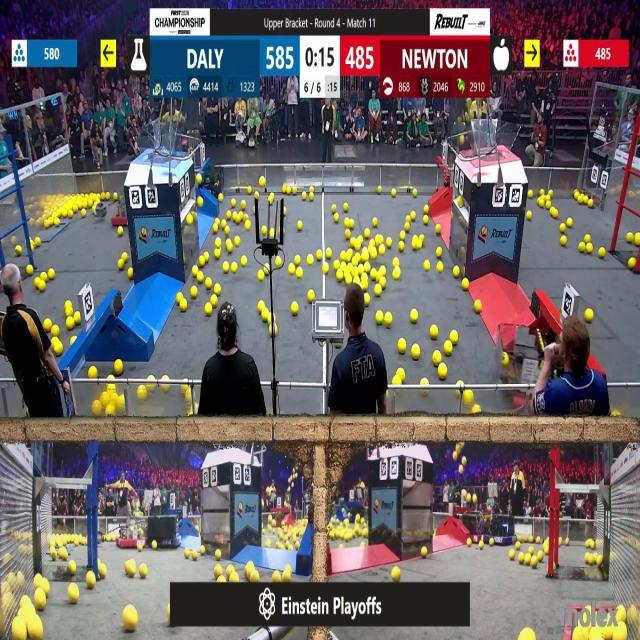ball_airborne: (459, 135, 465, 145), (458, 465, 464, 474), (466, 494, 472, 502), (462, 457, 468, 465), (471, 494, 476, 503), (462, 490, 468, 497), (451, 450, 455, 460)
ball_ground: (125, 608, 138, 633), (29, 621, 40, 640), (35, 592, 46, 610), (69, 586, 79, 604), (87, 572, 97, 588), (128, 562, 138, 577), (54, 342, 64, 356), (249, 568, 259, 582), (114, 359, 123, 374), (439, 363, 448, 378), (93, 403, 102, 418), (521, 630, 534, 640), (391, 567, 400, 581), (412, 345, 420, 360), (463, 391, 472, 404), (140, 564, 148, 578), (397, 340, 405, 354), (66, 302, 74, 316), (90, 365, 99, 377), (429, 325, 437, 338), (376, 312, 384, 325), (100, 565, 108, 578), (445, 343, 453, 356), (106, 406, 115, 417), (451, 329, 458, 343), (433, 352, 441, 364), (263, 310, 271, 322), (60, 548, 68, 560), (274, 570, 282, 582), (412, 310, 419, 323), (385, 313, 392, 326), (69, 561, 76, 574), (392, 270, 400, 281), (283, 570, 291, 581), (50, 324, 58, 335), (474, 302, 481, 314), (587, 310, 594, 322), (291, 304, 298, 316), (67, 318, 74, 330), (205, 305, 212, 317), (225, 240, 232, 252), (198, 272, 205, 284), (421, 548, 428, 560), (501, 354, 508, 366), (231, 573, 240, 582), (213, 284, 221, 294), (627, 234, 635, 244), (376, 236, 384, 246), (309, 289, 315, 302), (630, 259, 636, 272), (74, 313, 80, 326), (180, 301, 187, 312), (47, 270, 54, 281), (214, 565, 221, 576), (578, 242, 585, 253), (375, 285, 382, 296), (369, 270, 376, 281), (205, 278, 212, 289), (369, 248, 376, 259), (397, 367, 404, 378), (524, 555, 531, 566), (392, 376, 400, 385), (471, 406, 479, 415), (44, 319, 50, 331), (531, 556, 537, 568), (572, 631, 580, 640), (211, 295, 218, 305), (308, 254, 315, 264), (587, 244, 594, 254), (435, 264, 442, 274), (361, 280, 368, 290), (363, 264, 370, 274), (379, 278, 386, 288), (235, 213, 242, 223), (347, 249, 354, 259), (462, 279, 468, 290), (190, 286, 196, 297), (222, 263, 228, 274), (39, 281, 45, 292), (454, 268, 460, 279), (191, 267, 197, 278), (360, 274, 368, 282), (435, 248, 442, 257), (379, 268, 386, 277), (507, 551, 514, 560), (276, 256, 282, 266), (28, 266, 34, 276), (424, 262, 430, 272), (599, 248, 605, 258), (325, 249, 331, 259), (258, 272, 264, 282), (215, 551, 221, 561), (561, 237, 567, 247), (296, 269, 302, 279), (232, 264, 238, 274), (296, 220, 302, 230), (338, 272, 344, 282), (380, 246, 386, 256), (15, 246, 21, 256), (552, 208, 558, 218), (257, 302, 263, 312), (316, 250, 322, 260), (413, 240, 419, 250), (186, 214, 192, 224), (120, 262, 126, 272), (200, 254, 205, 266), (244, 220, 250, 230), (345, 218, 351, 228), (518, 554, 524, 564), (351, 238, 356, 250), (362, 247, 368, 257), (270, 230, 276, 240), (51, 552, 57, 562), (586, 554, 592, 564), (195, 174, 201, 184), (596, 555, 602, 565), (368, 239, 375, 247), (226, 566, 233, 574), (340, 264, 347, 272), (129, 269, 134, 280), (635, 235, 640, 246), (35, 238, 41, 247), (236, 238, 242, 247), (586, 235, 592, 244), (215, 249, 221, 258), (215, 239, 221, 248), (423, 215, 429, 224), (288, 266, 294, 275), (345, 231, 351, 240), (560, 223, 566, 232), (538, 199, 544, 208), (258, 177, 264, 186), (341, 251, 347, 260), (330, 205, 336, 214), (269, 325, 275, 334), (346, 276, 352, 285), (263, 224, 269, 233), (225, 211, 231, 220), (537, 553, 543, 562), (40, 272, 46, 281), (269, 193, 275, 202), (352, 276, 358, 285), (242, 256, 247, 266), (398, 242, 403, 252), (323, 265, 328, 275), (364, 294, 369, 304), (294, 255, 299, 265), (364, 230, 369, 240), (435, 223, 440, 233), (387, 238, 392, 248), (371, 217, 376, 227), (412, 211, 417, 221), (218, 575, 225, 582), (466, 538, 472, 546), (399, 232, 405, 240), (80, 209, 86, 217), (191, 552, 197, 560), (526, 212, 532, 220), (403, 222, 409, 230), (352, 257, 358, 265), (335, 214, 341, 222), (422, 378, 428, 386), (121, 252, 127, 260), (544, 201, 550, 209), (586, 539, 592, 547), (282, 185, 288, 193), (299, 191, 305, 199), (88, 200, 94, 208), (204, 252, 210, 260), (393, 257, 398, 266), (567, 218, 572, 227), (224, 225, 229, 234), (184, 550, 189, 559), (336, 262, 341, 271), (529, 544, 534, 553), (120, 227, 125, 236), (199, 200, 204, 209), (589, 200, 594, 209), (490, 537, 495, 546), (538, 188, 544, 195), (148, 374, 154, 381), (70, 338, 76, 345), (424, 206, 429, 214), (528, 189, 533, 197), (391, 188, 396, 196), (218, 192, 223, 200), (213, 224, 218, 232), (307, 194, 312, 202), (344, 204, 349, 212), (480, 540, 485, 548), (543, 543, 547, 553), (93, 207, 98, 215), (56, 218, 61, 226), (266, 265, 270, 275), (44, 220, 49, 228), (545, 191, 550, 199), (106, 191, 111, 199), (202, 544, 206, 553), (242, 201, 246, 210), (413, 189, 418, 196), (232, 201, 237, 208), (215, 218, 220, 225), (68, 211, 73, 218), (254, 191, 259, 198), (247, 186, 252, 193), (152, 540, 156, 548), (113, 192, 117, 200), (178, 292, 182, 300), (139, 544, 144, 550), (419, 235, 424, 241), (535, 536, 540, 542), (517, 541, 521, 548), (283, 208, 287, 215), (378, 186, 382, 193), (267, 540, 271, 547), (188, 412, 192, 418), (361, 541, 364, 547)
goal: (466, 121, 522, 160), (130, 128, 190, 160)
robot_blue: (148, 512, 185, 548), (0, 187, 21, 241), (481, 515, 516, 546), (200, 167, 227, 199)
robot_red: (498, 343, 544, 410), (452, 502, 484, 539), (118, 513, 150, 549), (111, 198, 126, 227)
